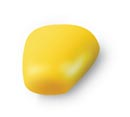corn: (23, 24, 99, 95)
